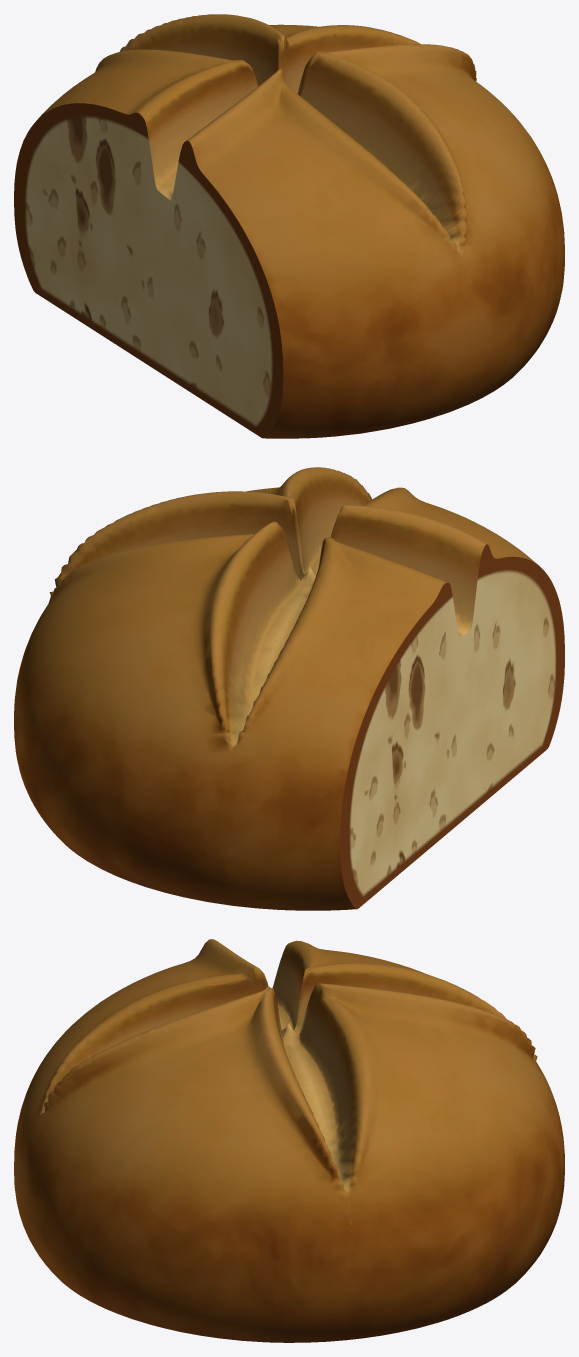
File: campagne--olive-oil.glb
The picture shows the model from 3 angles, top to bottom: view 1: azimuth 30°, elevation 25°; view 2: azimuth 150°, elevation 25°; view 3: azimuth 270°, elevation 25°; orthographic projection. The views are drawn at different scales.
Parts seen in each view (by area): view 1: campagne_olive-oil; view 2: campagne_olive-oil; view 3: campagne_olive-oil.
Boxes of the visible parts, left/top/right/bottom form: campagne_olive-oil: left=14, top=14, right=564, bottom=438; campagne_olive-oil: left=14, top=467, right=564, bottom=910; campagne_olive-oil: left=14, top=939, right=564, bottom=1342.
Bounding box in the file's own units: 0.7916 × 0.5303 × 0.9991.
Materials: 1 (1 with a texture image).
